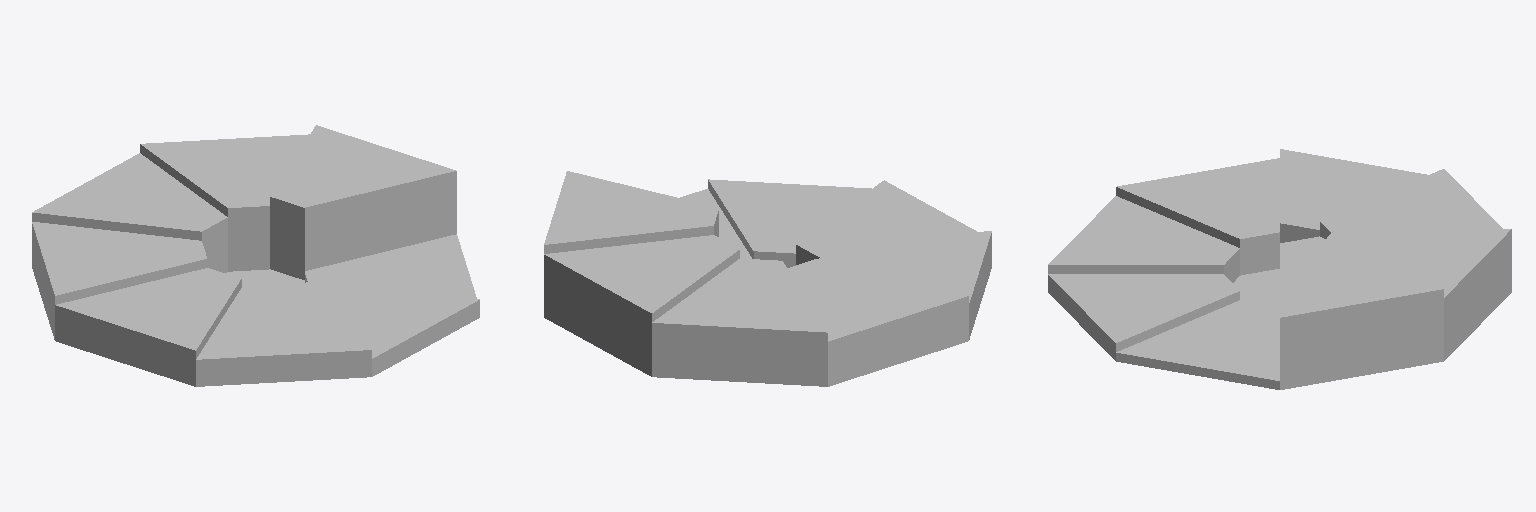
Rendered from Stairs.obj.
The picture shows the model from 3 angles: view 1: azimuth 30°, elevation 25°; view 2: azimuth 150°, elevation 25°; view 3: azimuth 270°, elevation 25°; orthographic projection.
Parts seen in each view (by area): view 1: Stairs; view 2: Stairs; view 3: Stairs.
Boxes of the visible parts, x1,y1,x2,y2 form: Stairs: [32, 125, 479, 386]; Stairs: [544, 171, 991, 386]; Stairs: [1048, 149, 1511, 389].
Bounding box in the file's own units: 0.087 × 0.015 × 0.087.